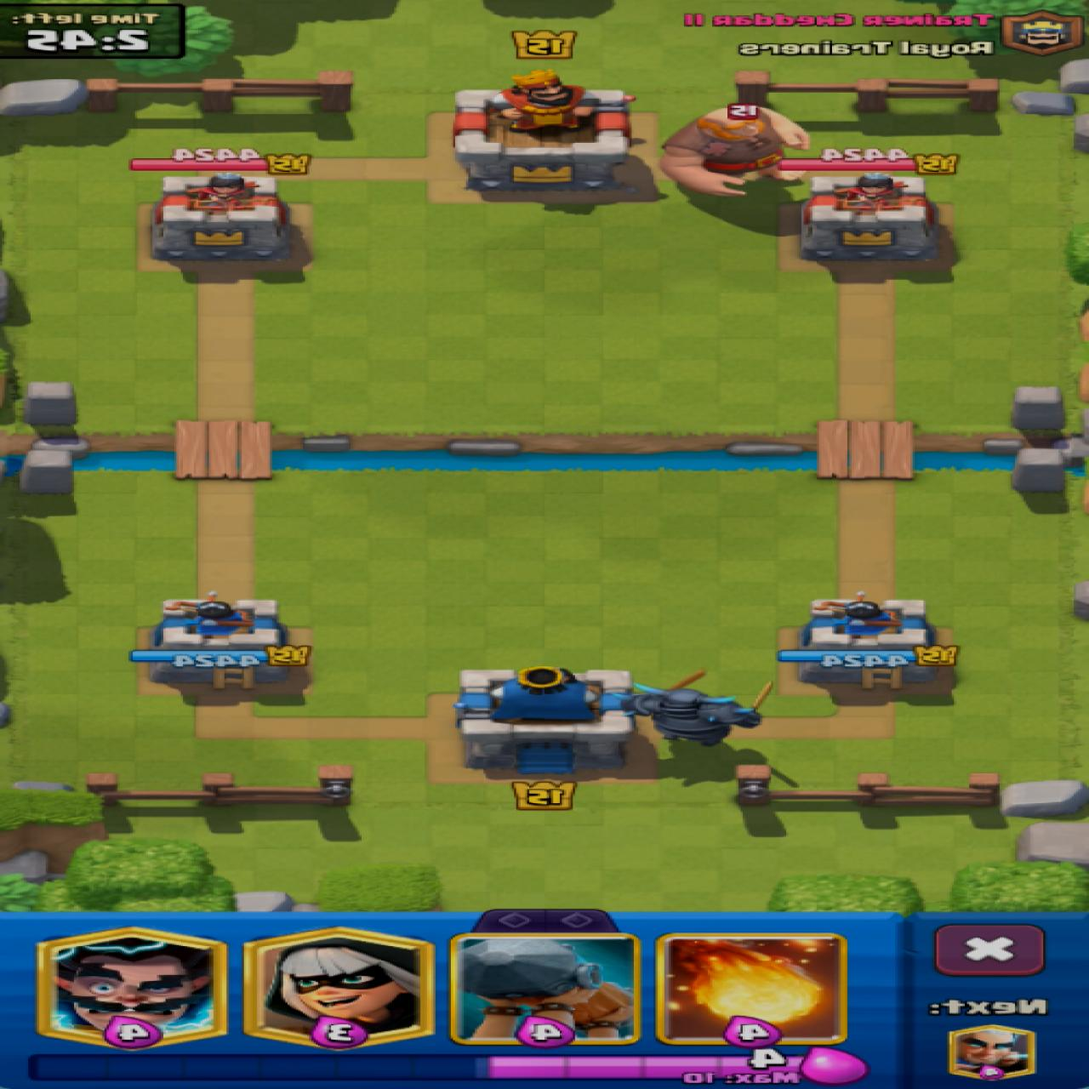Enemy-Giant: (664, 107, 808, 195)
Enemy-KingTower: (455, 70, 632, 193)
Enemy-PrincessTower: (152, 173, 292, 262), (804, 172, 939, 262)
